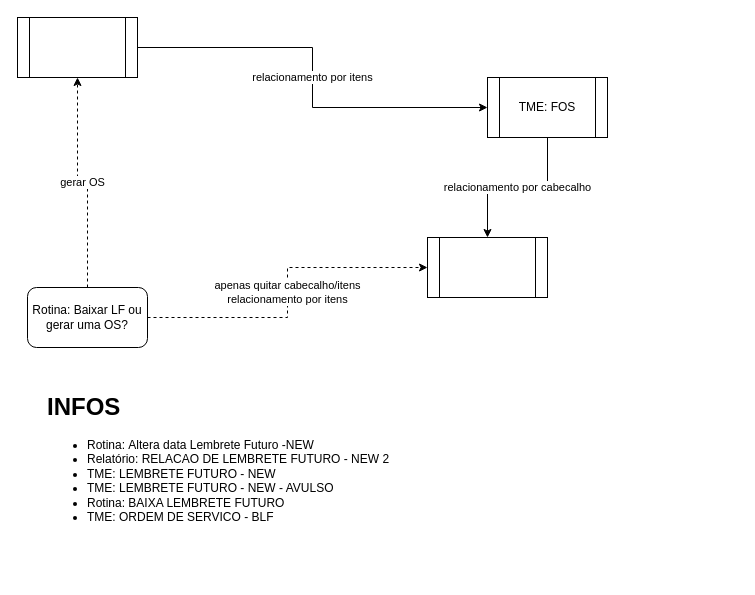
The diagram is 755 pixels wide and 595 high, and some of its shapes have lost their labels. The centre of each missing label's shape, as x and y in pixels:
"TME: LF" belongs at [487,267].
"TME: OS" belongs at [77,47].
